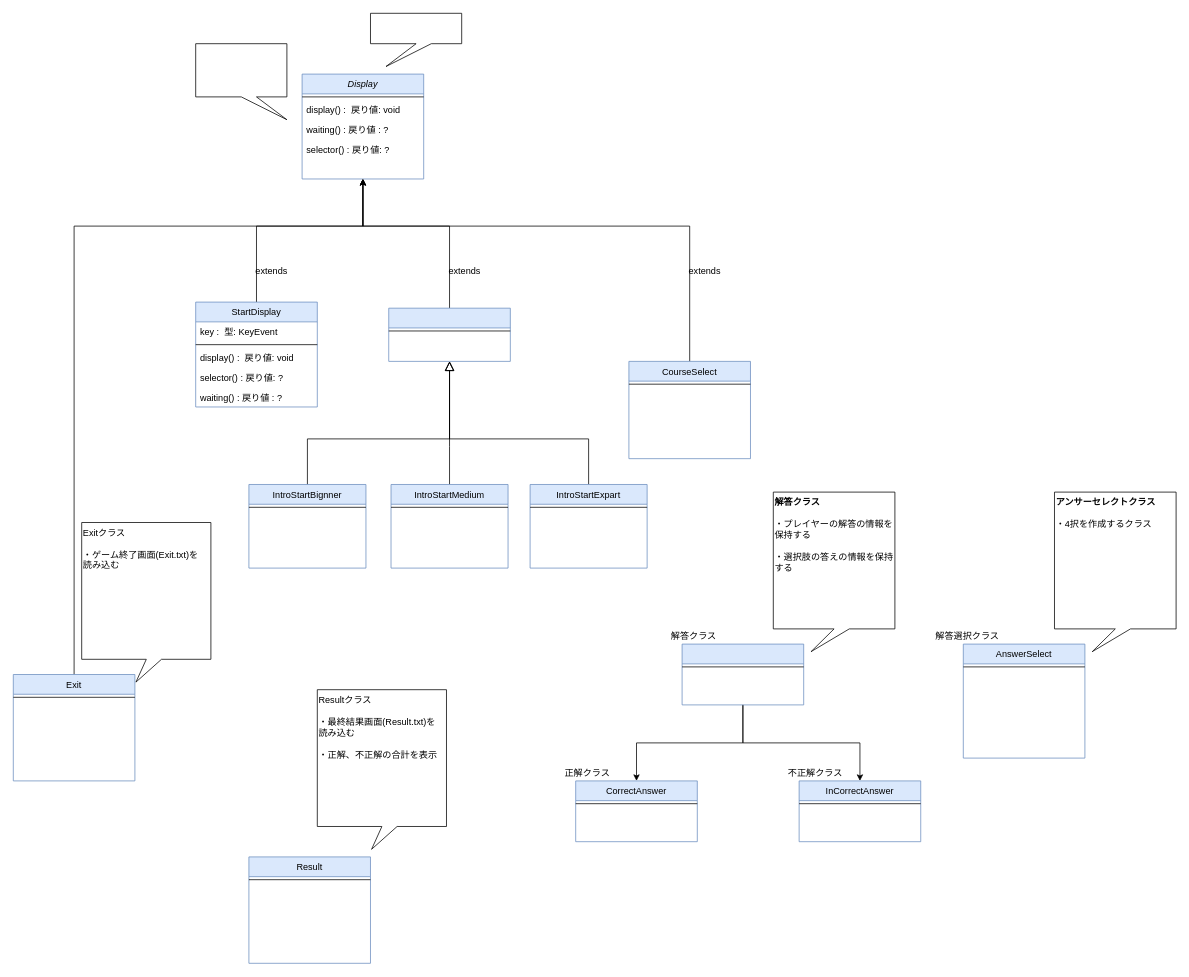
Image size: 1189x977. Some labels were removed from this diagram. The centre of each missing label's shape, as x and y in pixels:
"Answer" goes at (x=742, y=674).
"IntroStart" goes at (x=449, y=334).
"クラス名" goes at (x=416, y=39).
"上の段 : フィールド 下の段 : メソッド" goes at (x=241, y=81).
